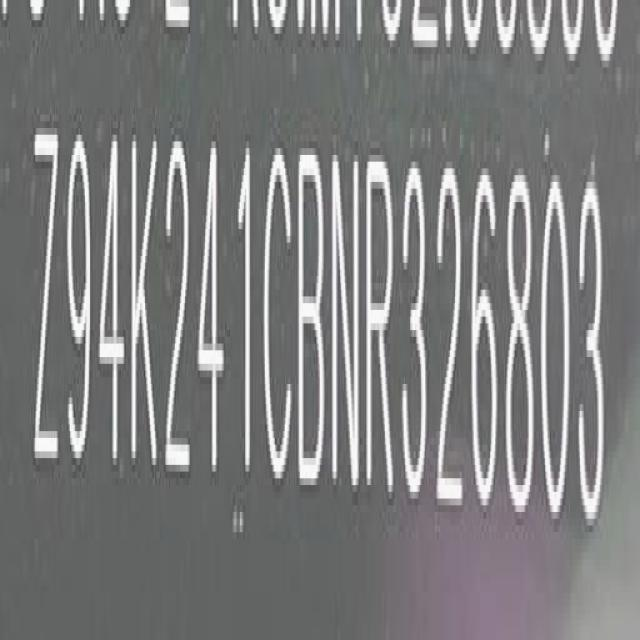0: (543, 178, 571, 524)
1: (236, 136, 254, 487)
2: (165, 128, 195, 489), (435, 163, 465, 515)
3: (400, 158, 430, 510), (578, 179, 606, 529)
4: (198, 130, 228, 491), (99, 126, 128, 478)
6: (469, 167, 499, 518)
8: (506, 170, 536, 522)
9: (65, 129, 94, 483)
B: (298, 141, 330, 495)
C: (262, 140, 294, 491)
K: (131, 127, 160, 486)
N: (332, 146, 365, 502)
R: (366, 149, 397, 504)
Z: (34, 127, 62, 486)
